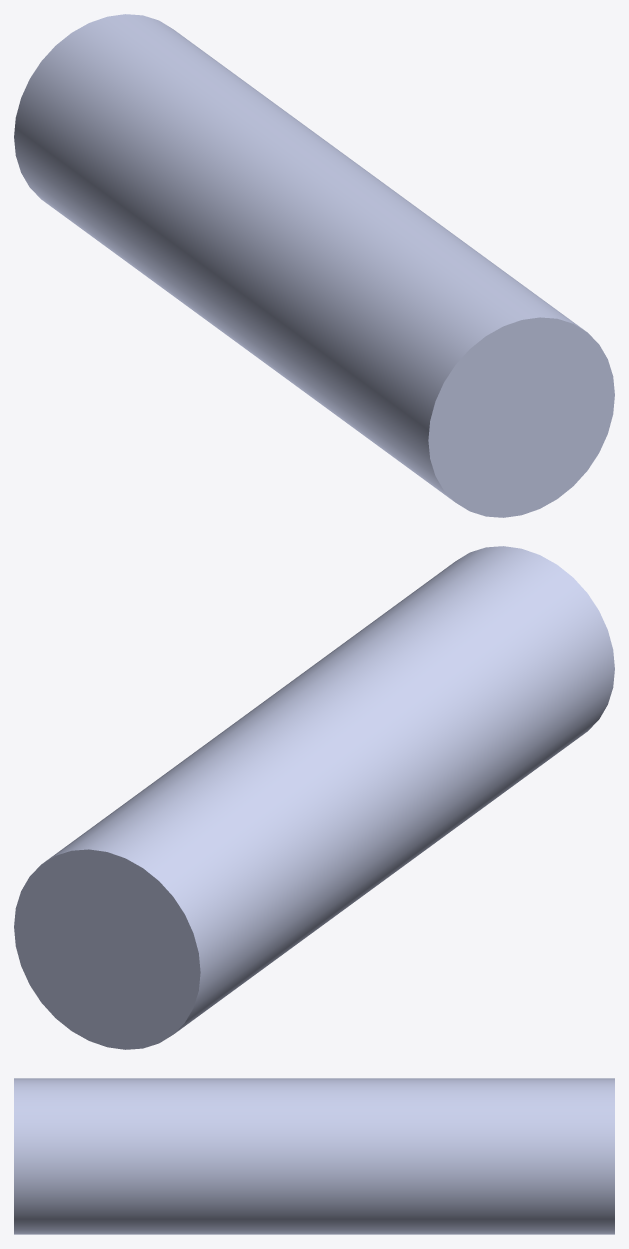
The model's file is tool_wrist_sca_shaft_link.dae.
3 views of the same model, one above another, from view 1: azimuth 30°, elevation 25°; view 2: azimuth 150°, elevation 25°; view 3: azimuth 270°, elevation 25° (orthographic). The views are drawn at different scales.
Visible parts, largest first — view 1: Actor0; view 2: Actor0; view 3: Actor0.
Boxes of the visible parts, x1=… form: Actor0: x1=14, y1=14, x2=614, y2=517; Actor0: x1=14, y1=546, x2=614, y2=1049; Actor0: x1=14, y1=1078, x2=614, y2=1234.
Bounding box in the file's own units: 0.0013 × 0.0013 × 0.005.
